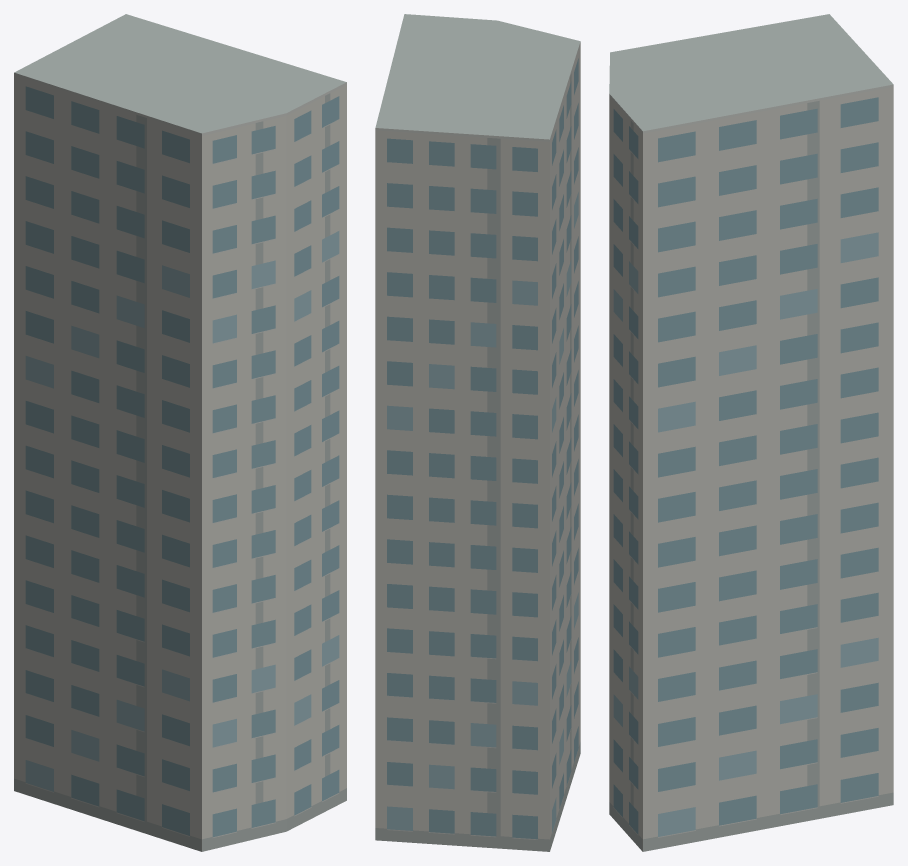
The model's file is residential-03f02959-e8cc-42d1-9d22-425ea173f771.glb.
3 renders of one model, left to right at view 1: azimuth 30°, elevation 25°; view 2: azimuth 150°, elevation 25°; view 3: azimuth 270°, elevation 25°, orthographic.
Parts seen in each view (by area): view 1: residential-03f02959-e8cc-42d1-9d22-425ea173f771.tmp; view 2: residential-03f02959-e8cc-42d1-9d22-425ea173f771.tmp; view 3: residential-03f02959-e8cc-42d1-9d22-425ea173f771.tmp.
Boxes of the visible parts, box(x1,y1,x2,y2) form: residential-03f02959-e8cc-42d1-9d22-425ea173f771.tmp: box(14, 14, 346, 851); residential-03f02959-e8cc-42d1-9d22-425ea173f771.tmp: box(375, 14, 580, 851); residential-03f02959-e8cc-42d1-9d22-425ea173f771.tmp: box(609, 14, 893, 851).
Size of the model in its own units: 24.8 by 71 by 25.4.
